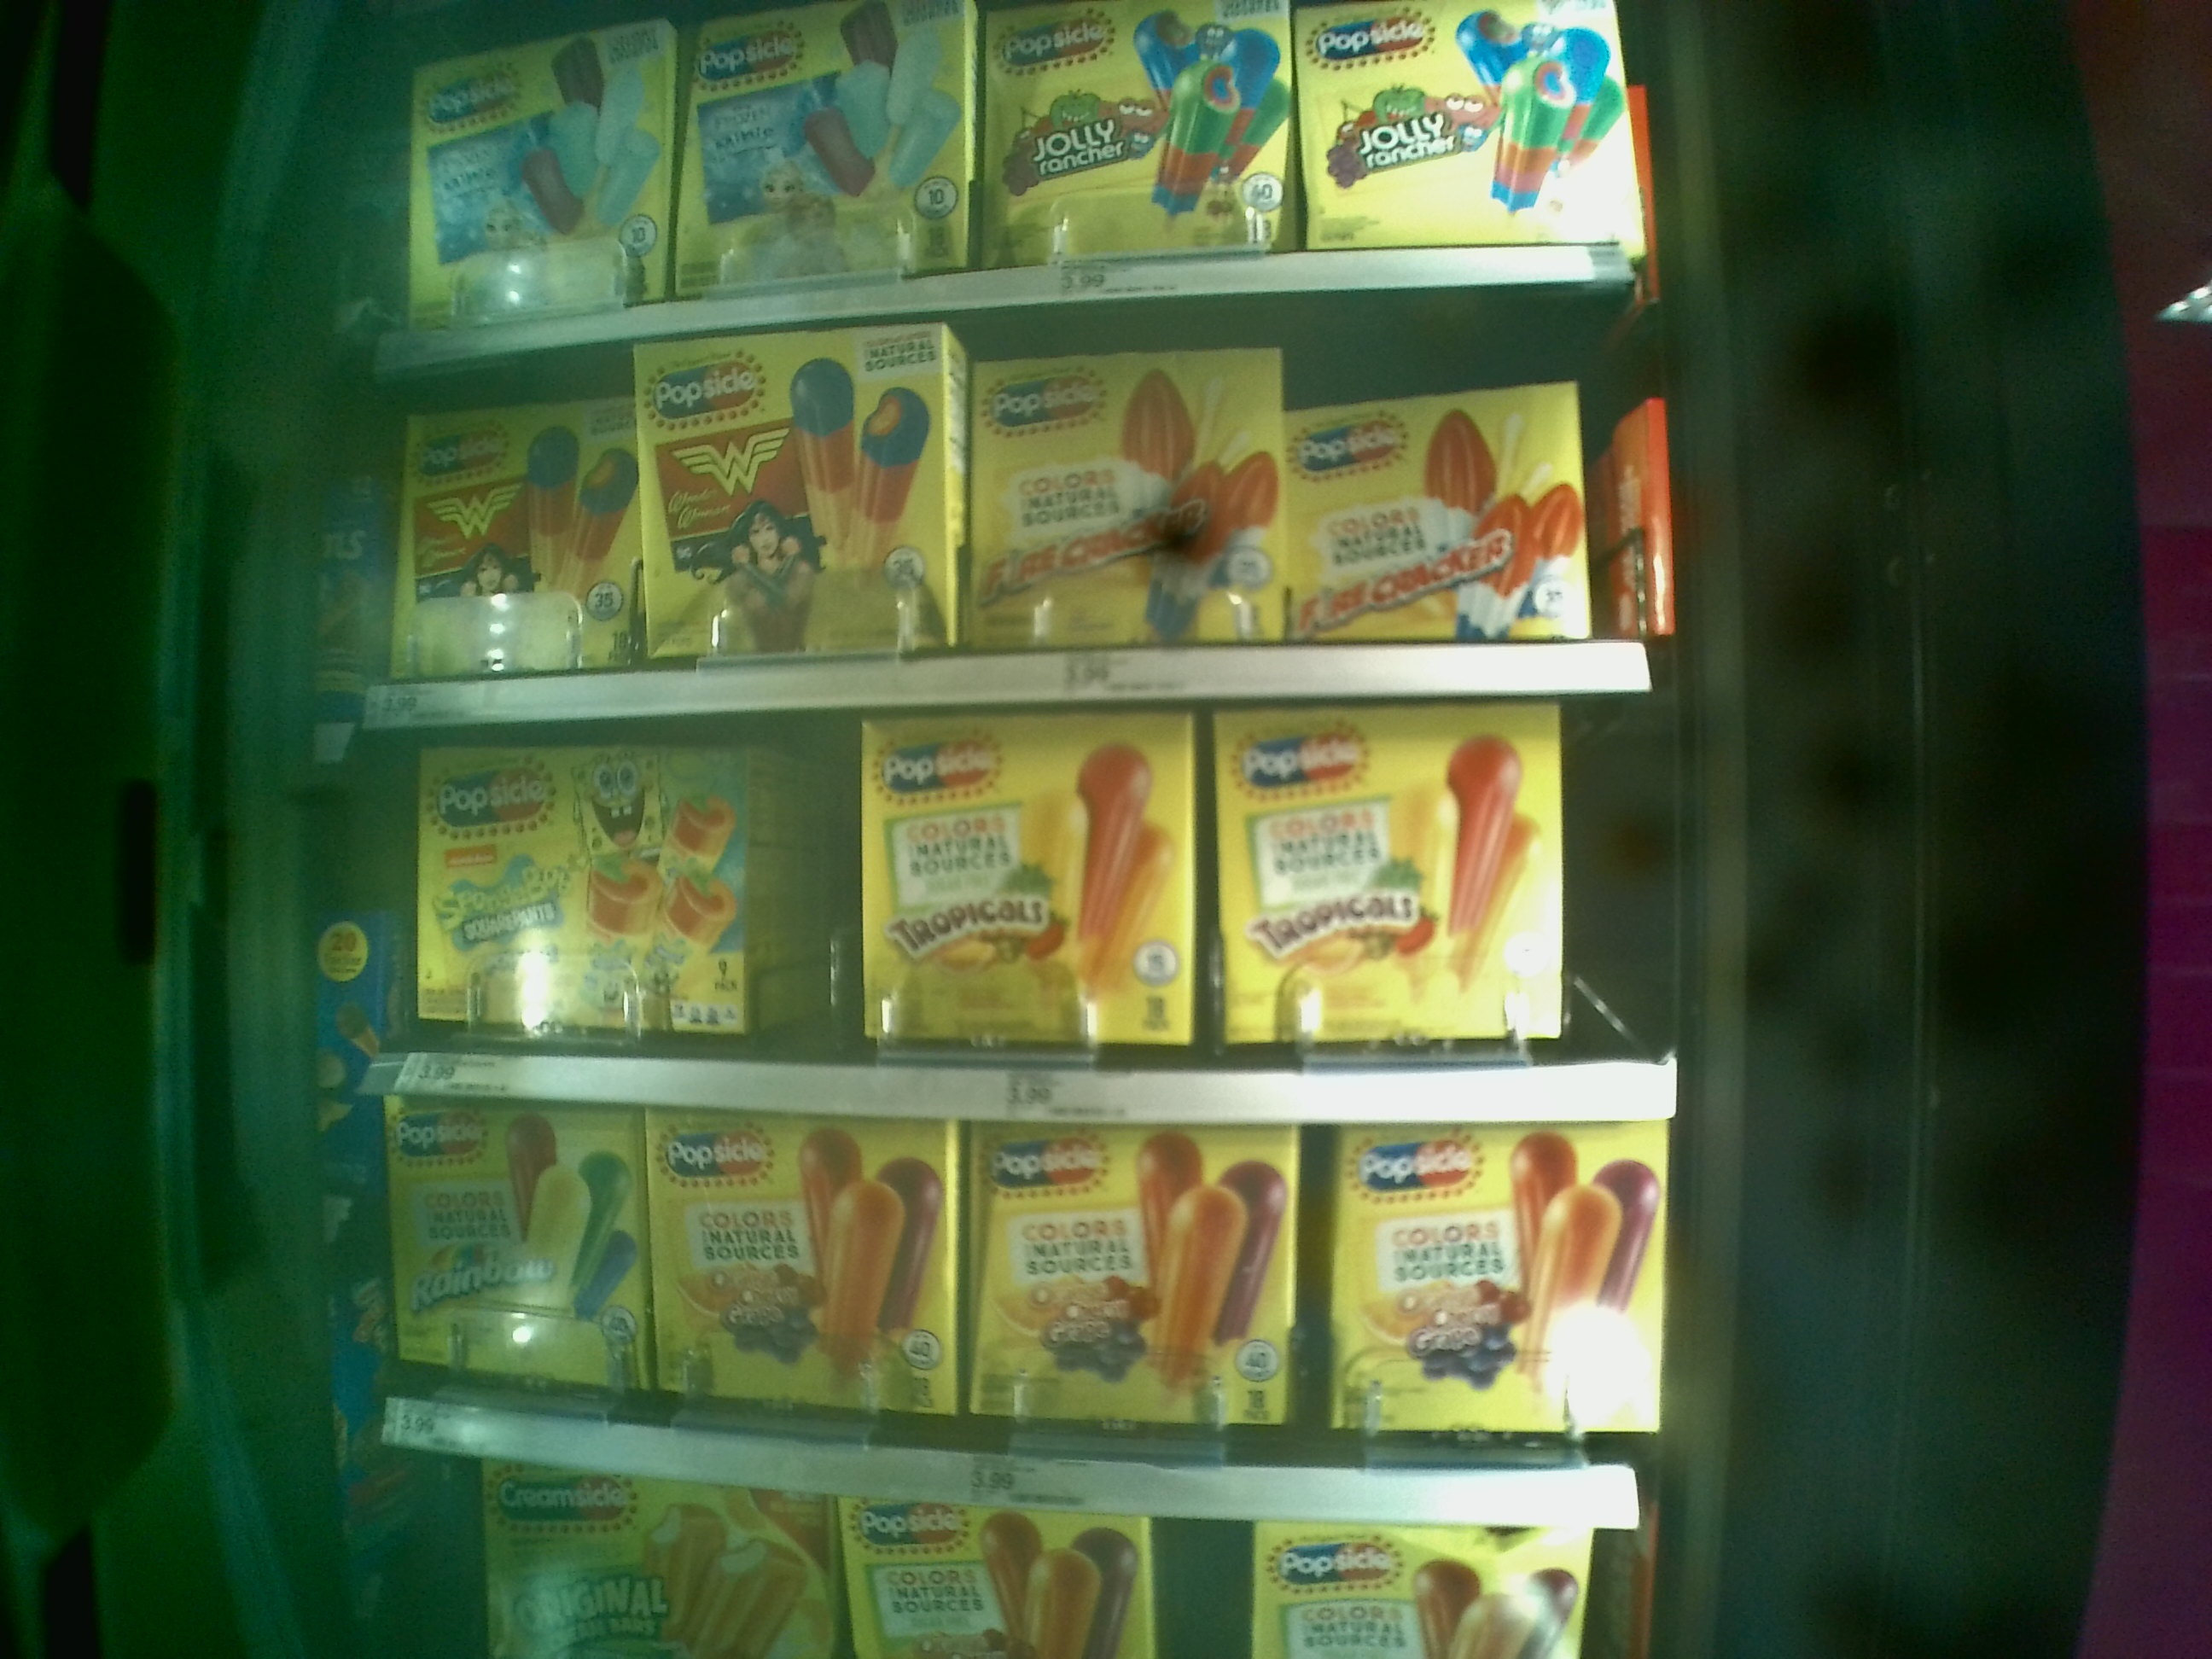frozen-food-shelf: (350, 727, 1686, 1129)
